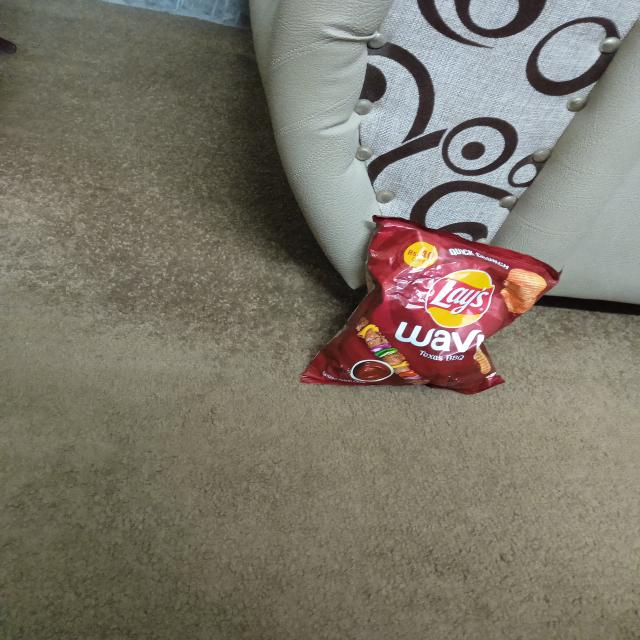Plastic: (302, 211, 564, 400)
